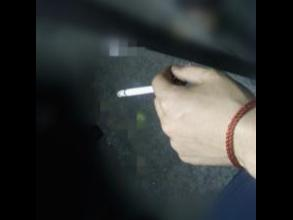Cigarette: (117, 86, 154, 96)
